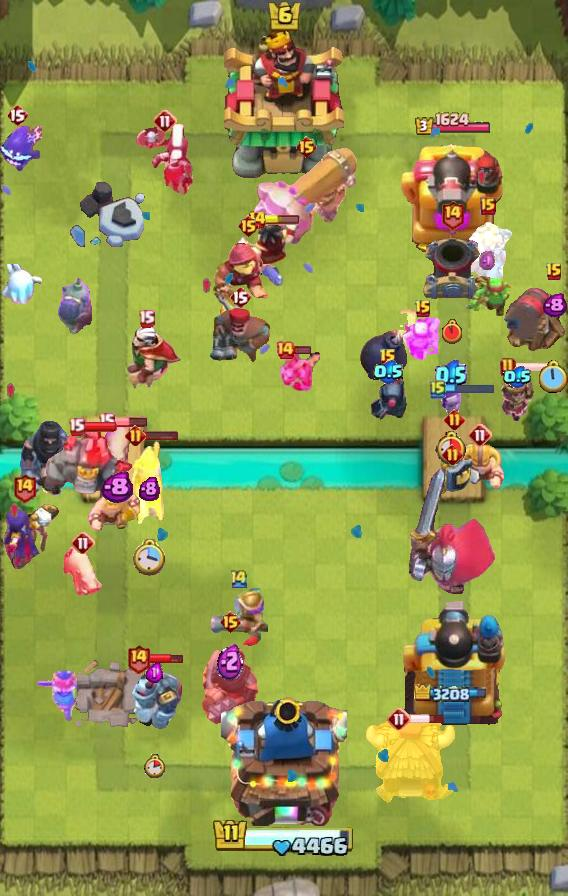bar: (444, 383, 496, 395), (148, 652, 184, 665), (409, 713, 446, 725), (514, 361, 551, 373), (143, 429, 179, 441), (82, 421, 118, 433), (112, 416, 148, 428), (264, 215, 300, 225), (293, 345, 312, 355)
bar-level: (126, 643, 151, 674), (12, 472, 37, 503), (440, 199, 465, 230), (387, 707, 411, 731), (71, 531, 95, 555), (468, 423, 492, 447), (153, 109, 177, 133), (219, 610, 242, 634), (237, 214, 260, 238), (295, 135, 318, 159), (229, 285, 251, 309), (6, 103, 28, 127), (442, 444, 463, 465), (125, 425, 146, 446), (444, 409, 465, 430), (229, 568, 249, 589), (275, 340, 295, 360), (248, 210, 267, 230), (379, 348, 397, 368), (414, 299, 432, 319), (545, 262, 563, 282), (68, 417, 85, 436), (98, 412, 115, 431), (138, 309, 155, 328), (430, 379, 446, 399), (500, 357, 516, 377), (480, 197, 496, 215)
barbarian: (88, 486, 144, 538)
bomb: (359, 309, 419, 381)
bomber-evolution: (57, 269, 95, 337)
cannoneer-tower: (397, 595, 509, 731), (399, 138, 507, 256)
clock: (133, 539, 166, 577), (435, 430, 468, 464), (537, 360, 568, 395), (144, 754, 165, 778), (442, 319, 462, 344)
electro-spirit: (0, 126, 42, 172)
electro-wizard: (236, 218, 302, 276)
elite-barbarian: (454, 442, 506, 490)
elixir: (100, 471, 133, 504), (435, 359, 467, 391), (217, 641, 243, 680), (373, 360, 404, 384), (503, 366, 532, 388), (542, 293, 567, 318), (139, 476, 160, 501), (479, 250, 497, 272), (146, 662, 163, 683)
guard: (436, 430, 472, 498)
hog: (61, 543, 105, 599), (102, 420, 134, 472)
hunter: (206, 308, 274, 366)
ice-spirit: (0, 264, 42, 304)
king-tower: (224, 29, 344, 181), (221, 690, 347, 826)
king-tower-bar: (212, 817, 356, 859)
little-prince: (498, 372, 536, 424)
mega-minion: (124, 660, 184, 730)
mini-pekka: (367, 371, 409, 425)
minion: (279, 347, 321, 393)
mortar: (421, 235, 483, 303)
musketeer: (130, 439, 168, 537), (210, 586, 268, 646)
night-witch: (134, 124, 196, 196)
royal-ghost: (461, 219, 515, 281)
skeleton-evolution: (436, 387, 467, 423)
spear-goblin: (400, 316, 446, 364), (464, 276, 512, 320)
tower-bar: (414, 112, 492, 137), (414, 684, 492, 705)
valkyrie: (34, 669, 82, 723)
witch: (0, 501, 60, 569)
